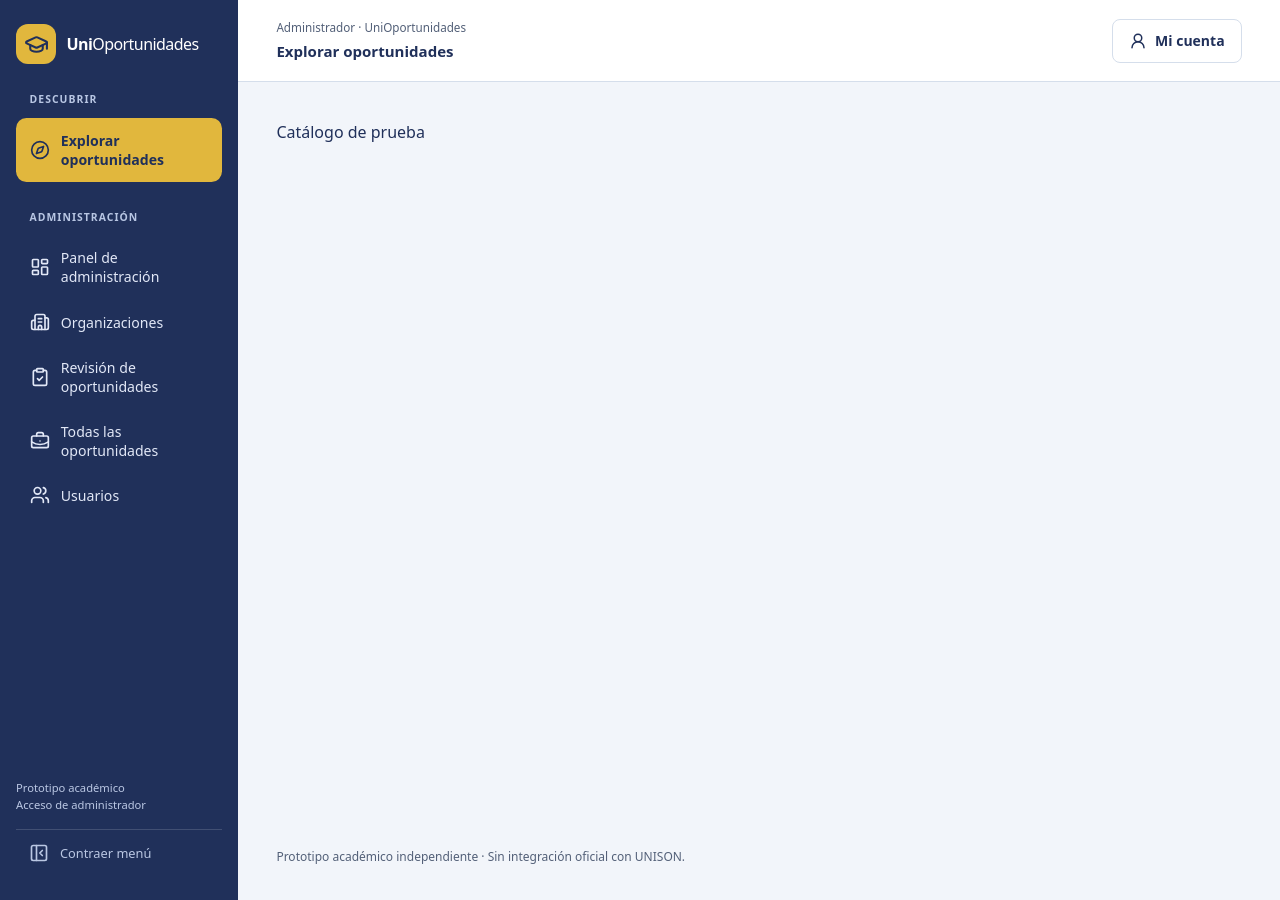
Test: admin llega al panel desde catálogo con una sola interacción
Click the link "Panel de administración": (94, 267) [30, 248, 159, 286]
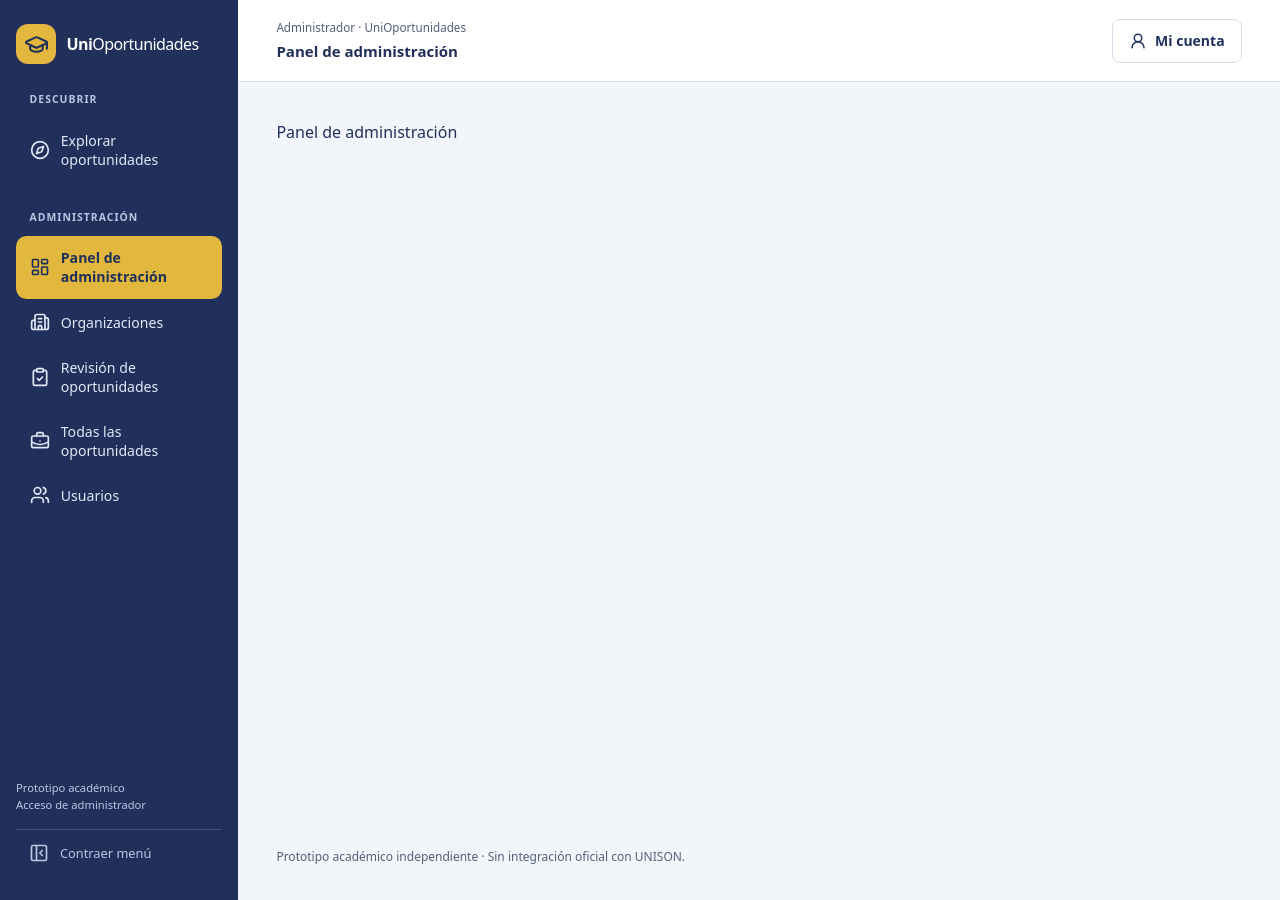
Check: the heading "Panel de administración" is shown, box [276, 121, 457, 143]
